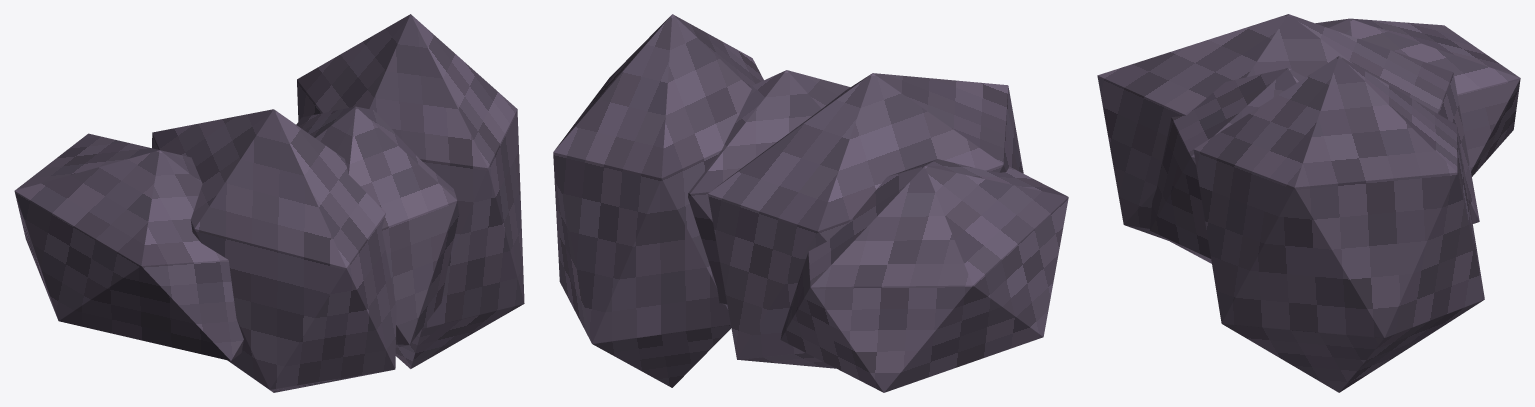
File: ruin_02.glb
3 renders of one model, left to right at view 1: azimuth 30°, elevation 25°; view 2: azimuth 150°, elevation 25°; view 3: azimuth 270°, elevation 25°, orthographic. The views are drawn at different scales.
Parts seen in each view (by area): view 1: WeatheredStone.001, WeatheredStone, WeatheredStone.003, WeatheredStone.002; view 2: WeatheredStone.003, WeatheredStone, WeatheredStone.001, WeatheredStone.002; view 3: WeatheredStone.003, WeatheredStone.001, WeatheredStone, WeatheredStone.002.
Boxes of the visible parts, <box> form: WeatheredStone.001: <box>152,109,396,392</box>; WeatheredStone: <box>14,133,243,360</box>; WeatheredStone.003: <box>297,14,524,368</box>; WeatheredStone.002: <box>296,106,459,347</box>; WeatheredStone.003: <box>553,14,763,387</box>; WeatheredStone: <box>780,159,1068,392</box>; WeatheredStone.001: <box>708,73,1023,368</box>; WeatheredStone.002: <box>688,70,850,305</box>; WeatheredStone.003: <box>1193,56,1484,392</box>; WeatheredStone.001: <box>1097,14,1479,240</box>; WeatheredStone: <box>1315,18,1520,176</box>; WeatheredStone.002: <box>1150,68,1304,263</box>.
Bounding box in the file's own units: 2.4 × 1.87 × 2.13.
1 material, 1 textured.
